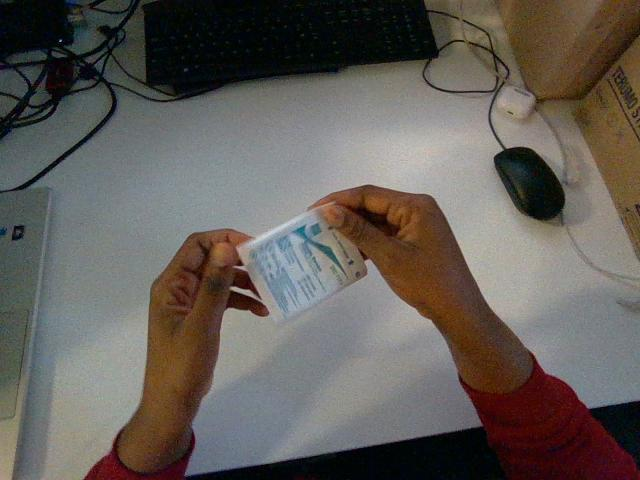gauze: (237, 207, 366, 321)
